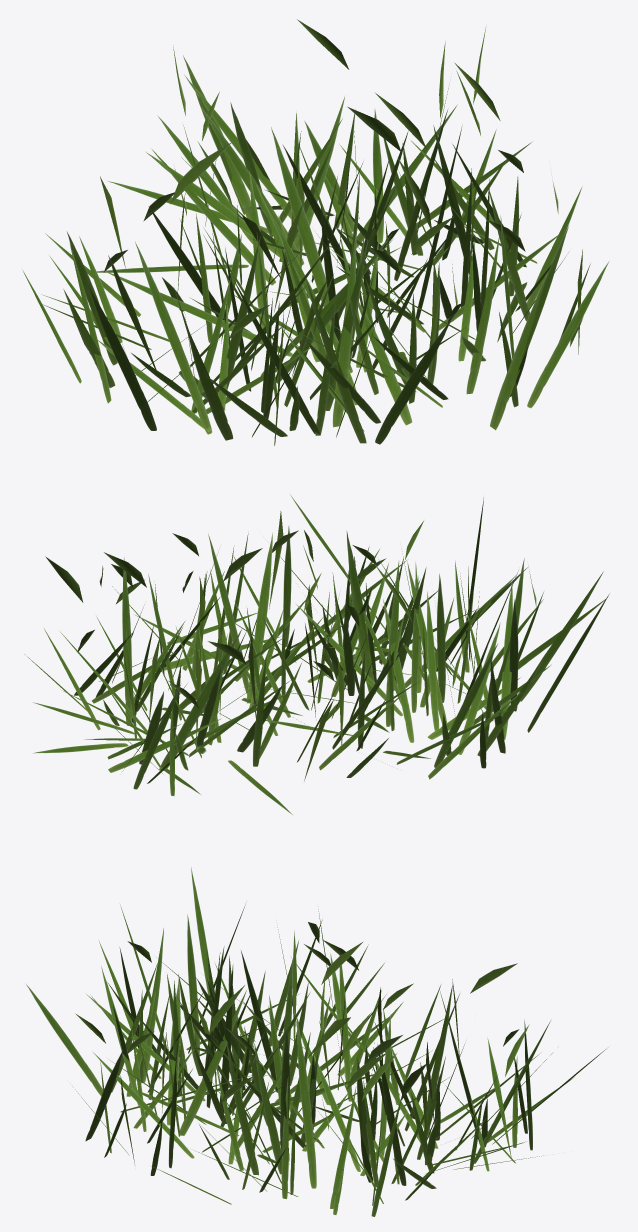
File: Tuft_Wild_B.glb
3 views of the same model, one above another, from view 1: azimuth 30°, elevation 25°; view 2: azimuth 150°, elevation 25°; view 3: azimuth 270°, elevation 25° (orthographic). The views are drawn at different scales.
Parts seen in each view (by area): view 1: Tuft_Wild_B; view 2: Tuft_Wild_B; view 3: Tuft_Wild_B.
Boxes of the visible parts, <box> form: Tuft_Wild_B: <box>22,19,609,445</box>; Tuft_Wild_B: <box>24,493,609,815</box>; Tuft_Wild_B: <box>25,867,605,1216</box>.
Size of the model in its own units: 0.9079 by 0.324 by 1.01.
1 material, 1 textured.
